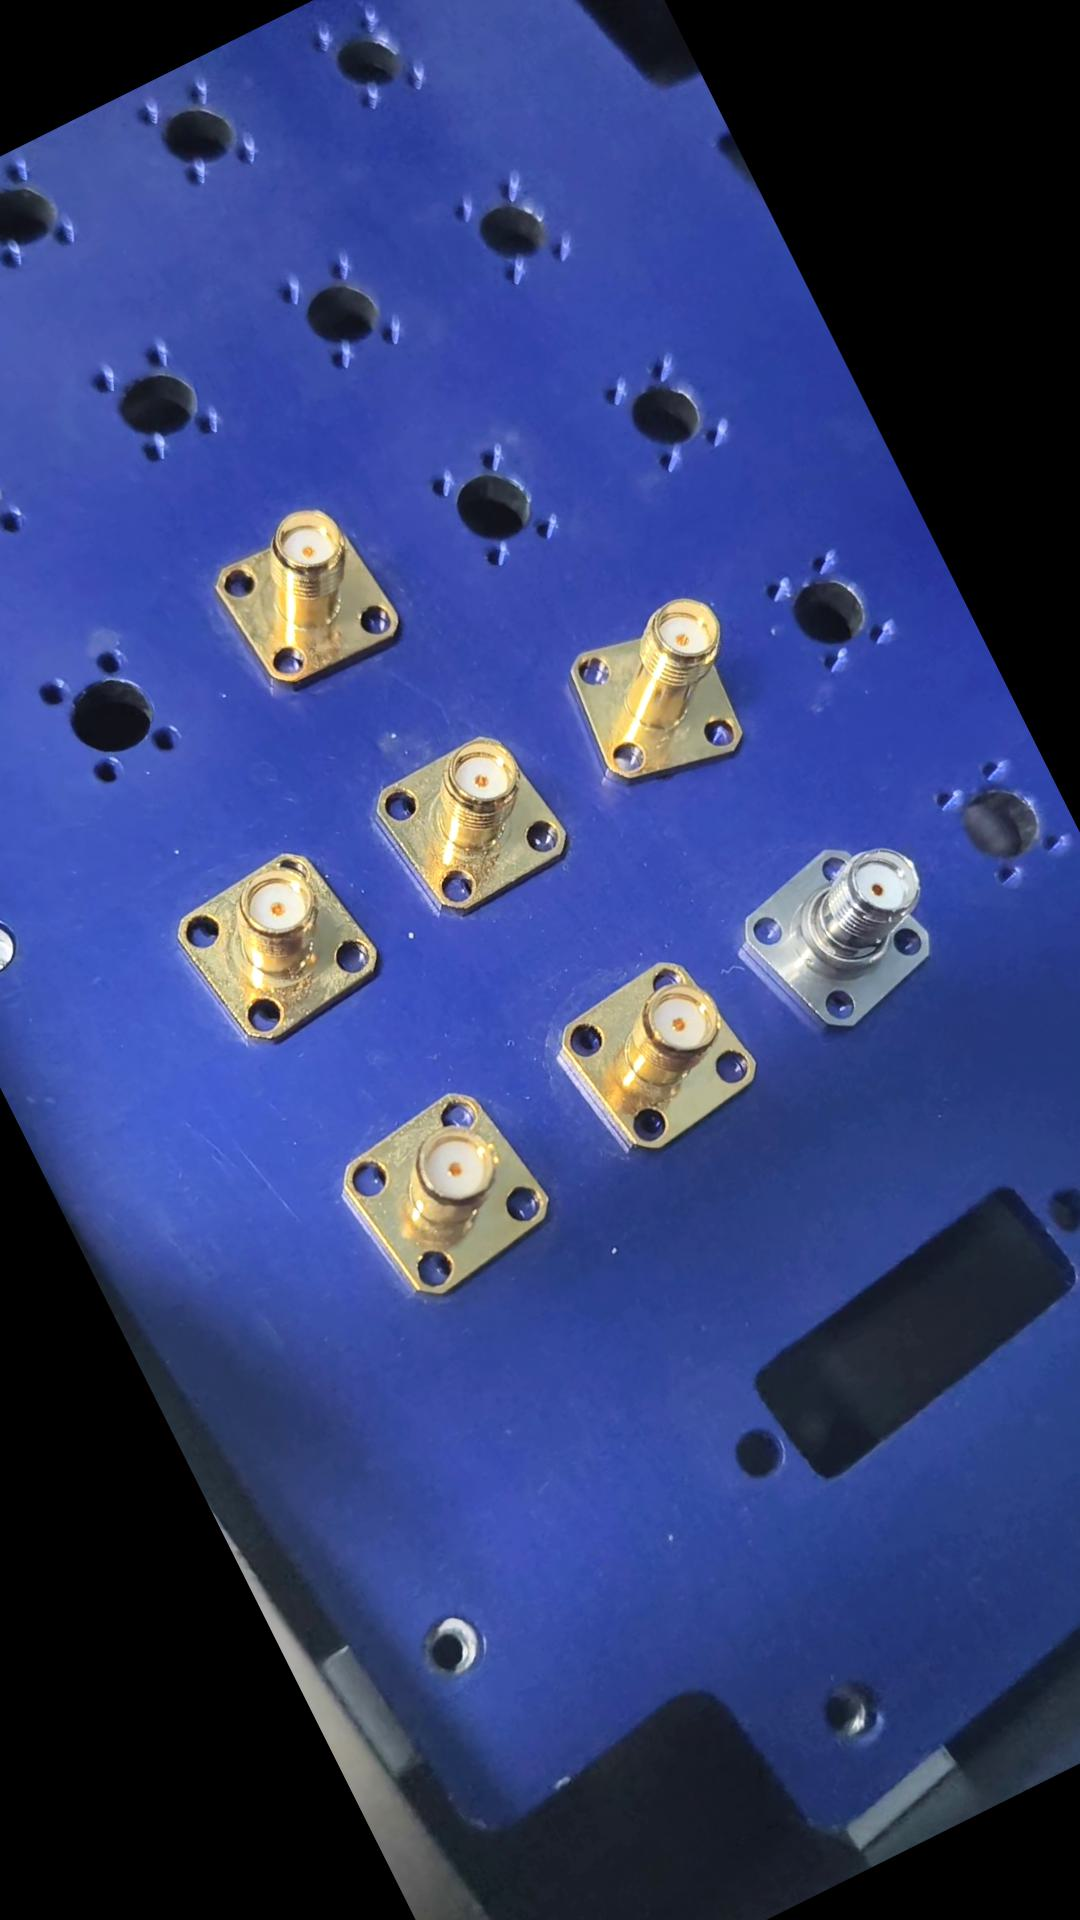SMA: (322, 1067, 579, 1323), (717, 814, 971, 1058), (541, 934, 777, 1172), (160, 827, 396, 1056), (550, 583, 781, 810), (357, 715, 582, 936), (194, 487, 418, 705)
